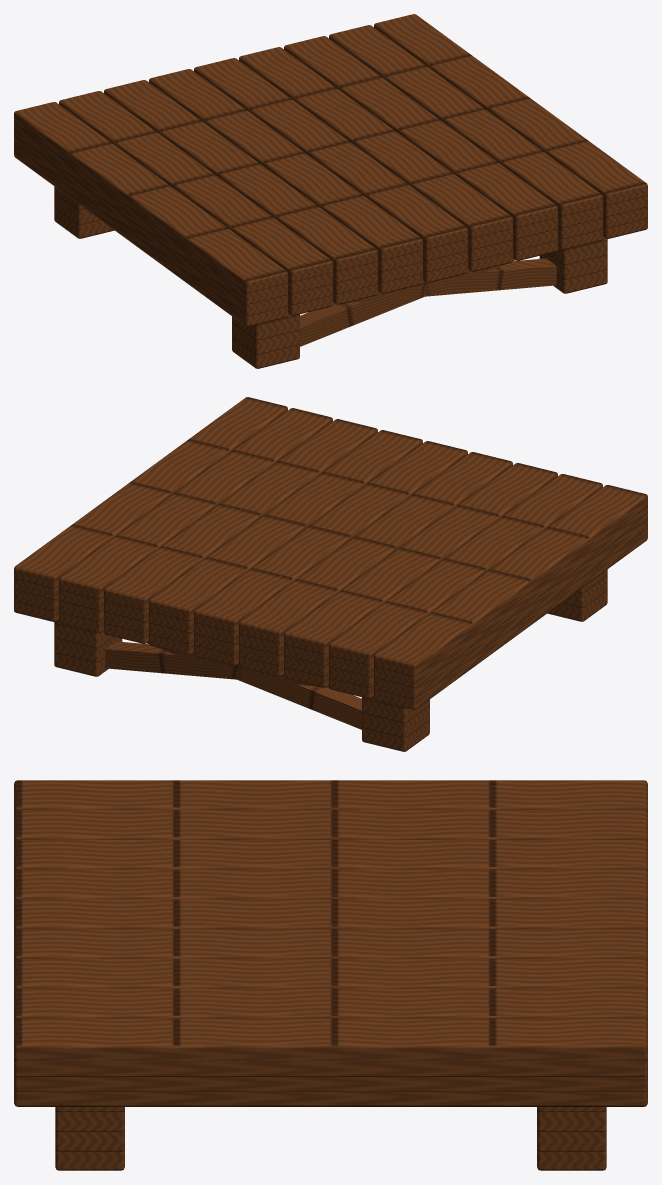
The model's file is rural-scavenging-settlements-porch-platform-94d26f37__26505.glb.
The picture shows the model from 3 angles, top to bottom: view 1: azimuth 30°, elevation 25°; view 2: azimuth 150°, elevation 25°; view 3: azimuth 270°, elevation 25°; orthographic projection. The views are drawn at different scales.
Visible parts, largest first — view 1: porch-platform; view 2: porch-platform; view 3: porch-platform.
Boxes of the visible parts, <box> form: porch-platform: <box>14,14,647,368</box>; porch-platform: <box>14,397,647,751</box>; porch-platform: <box>14,780,647,1170</box>.
Size of the model in its own units: 1.99 by 0.5001 by 2.
Materials: 1 (1 with a texture image).
